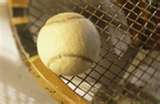tennis ball: (34, 11, 105, 79)
